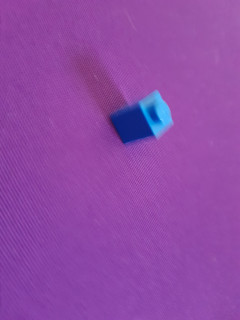1x1 blue: (106, 87, 177, 148)
